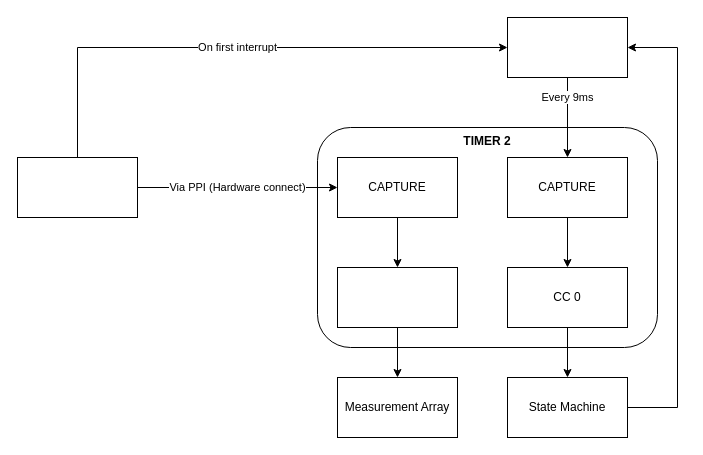
The diagram is 703 pixels wide and 455 high, and some of its shapes have lost their labels. The centre of each missing label's shape, as x and y in pixels:
"CC 1" belongs at point (397, 297).
"RUNNING mainfunction" belongs at point (567, 47).
"Sensor Pin 29" belongs at point (77, 187).
